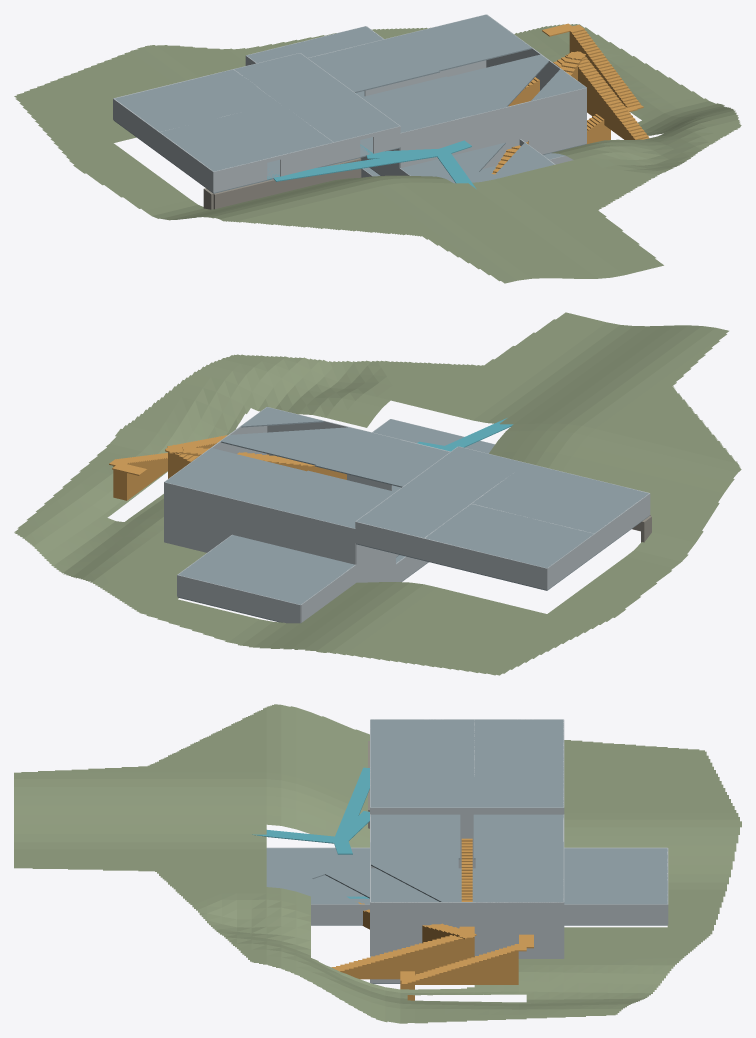
The model's file is supported-stairs.glb.
3 views of the same model, one above another, from view 1: azimuth 30°, elevation 25°; view 2: azimuth 150°, elevation 25°; view 3: azimuth 270°, elevation 25° (orthographic). The views are drawn at different scales.
Parts seen in each view (by area): view 1: Saved editor occupied-room terrain WLD-09, Ceiling cap west-stair, Ceiling cap control, Wall turbine S.001, Ceiling cap office, Restored ceiling-cap turbine 0 region0, Ceiling cap turbine.006, Ceiling cap turbine.003, Ceiling cap turbine, Ceiling cap plant, Ceiling cap turbine.004, Wall turbine S (+14 smaller); view 2: Saved editor occupied-room terrain WLD-09, Ceiling cap west-stair, Ceiling cap control, Ceiling cap plant, Wall turbine N.001, Ceiling cap office, Restored ceiling-cap turbine 0 region0, Ceiling cap turbine.006, Wall office N, Wall plant N, Ceiling cap turbine, Ceiling cap turbine.003 (+12 smaller); view 3: Saved editor occupied-room terrain WLD-09, Wall turbine E, Ceiling cap west-stair, Ceiling cap control, Ceiling cap plant, Ceiling cap office, Restored ceiling-cap turbine 0 region0, Ceiling cap turbine.006, Ceiling cap turbine, Ceiling cap turbine.003, Wall plant E, Ceiling cap turbine.004 (+11 smaller).
Boxes of the visible parts, left/top/right/bottom form: Saved editor occupied-room terrain WLD-09: left=14, top=24, right=741, bottom=283; Ceiling cap west-stair: left=234, top=53, right=399, bottom=142; Ceiling cap control: left=160, top=103, right=332, bottom=171; Wall turbine S.001: left=465, top=88, right=586, bottom=168; Ceiling cap office: left=115, top=69, right=278, bottom=131; Restored ceiling-cap turbine 0 region0: left=409, top=54, right=548, bottom=119; Ceiling cap turbine.006: left=394, top=14, right=531, bottom=71; Ceiling cap turbine.003: left=362, top=86, right=454, bottom=132; Ceiling cap turbine: left=308, top=46, right=400, bottom=91; Ceiling cap plant: left=246, top=26, right=382, bottom=63; Ceiling cap turbine.004: left=355, top=37, right=438, bottom=79; Wall turbine S: left=400, top=120, right=455, bottom=168; Saved editor occupied-room terrain WLD-09: left=14, top=312, right=741, bottom=675; Ceiling cap west-stair: left=356, top=446, right=526, bottom=537; Ceiling cap control: left=472, top=463, right=648, bottom=533; Ceiling cap plant: left=178, top=535, right=354, bottom=604; Wall turbine N.001: left=164, top=482, right=288, bottom=550; Ceiling cap office: left=425, top=504, right=593, bottom=567; Restored ceiling-cap turbine 0 region0: left=221, top=427, right=400, bottom=475; Ceiling cap turbine.006: left=165, top=448, right=306, bottom=505; Wall office N: left=424, top=538, right=547, bottom=589; Wall plant N: left=177, top=575, right=300, bottom=623; Ceiling cap turbine: left=300, top=481, right=394, bottom=528; Ceiling cap turbine.003: left=355, top=440, right=449, bottom=485; Saved editor occupied-room terrain WLD-09: left=14, top=704, right=741, bottom=1023; Wall turbine E: left=370, top=902, right=563, bottom=956; Ceiling cap west-stair: left=370, top=776, right=563, bottom=807; Ceiling cap control: left=370, top=719, right=474, bottom=776; Ceiling cap plant: left=564, top=848, right=667, bottom=904; Ceiling cap office: left=474, top=719, right=563, bottom=776; Restored ceiling-cap turbine 0 region0: left=370, top=840, right=460, bottom=901; Ceiling cap turbine.006: left=475, top=858, right=563, bottom=902; Ceiling cap turbine: left=475, top=814, right=563, bottom=840; Ceiling cap turbine.003: left=370, top=814, right=458, bottom=840; Wall plant E: left=564, top=904, right=667, bottom=924; Ceiling cap turbine.004: left=475, top=840, right=563, bottom=858.
Size of the model in its own units: 85 by 13.16 by 98.
